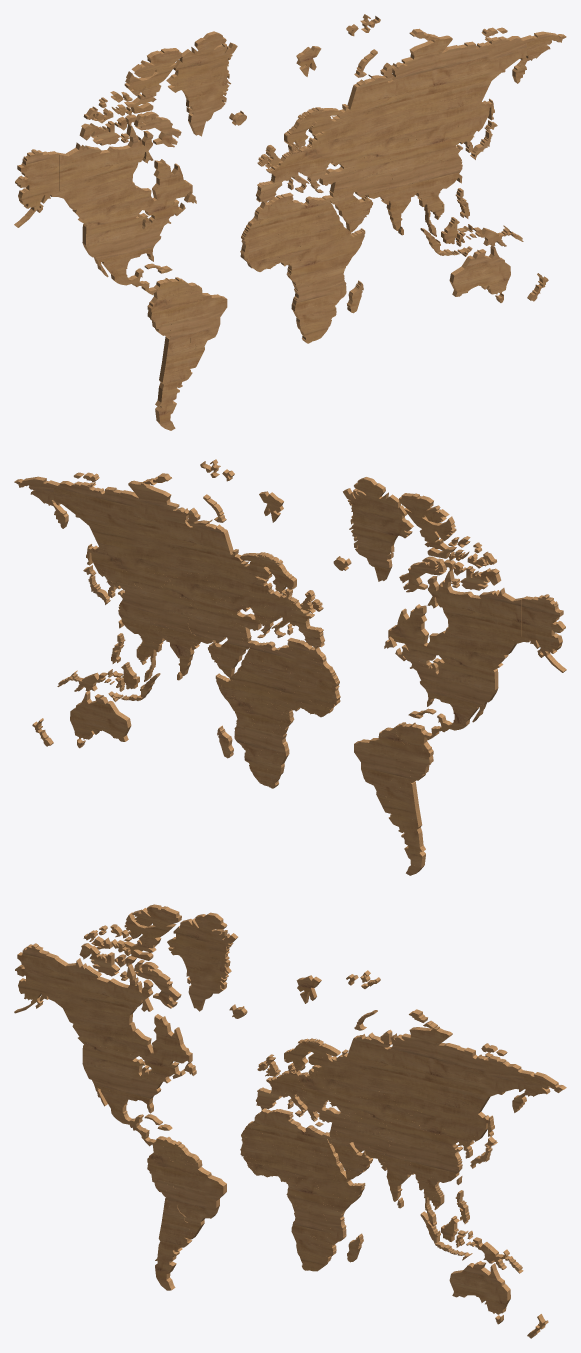
Rendered from wooden_world_map_decor.glb.
3 views of the same model, one above another, from view 1: azimuth 30°, elevation 25°; view 2: azimuth 150°, elevation 25°; view 3: azimuth 330°, elevation 25° (orthographic).
Parts seen in each view (by area): view 1: Object_7, Object_3, Object_5; view 2: Object_7, Object_3, Object_5; view 3: Object_7, Object_5, Object_3.
Part boxes in pixels (x1=…): Object_7: x1=18, y1=16, x2=566, y2=430; Object_3: x1=14, y1=14, x2=566, y2=427; Object_5: x1=14, y1=14, x2=562, y2=422; Object_7: x1=14, y1=462, x2=563, y2=875; Object_3: x1=14, y1=460, x2=566, y2=873; Object_5: x1=18, y1=459, x2=566, y2=867; Object_7: x1=14, y1=907, x2=562, y2=1338; Object_5: x1=16, y1=904, x2=562, y2=1336; Object_3: x1=14, y1=904, x2=566, y2=1333.
Size of the model in its own units: 4.44 by 2.98 by 0.0601.
1 material, 1 textured.
